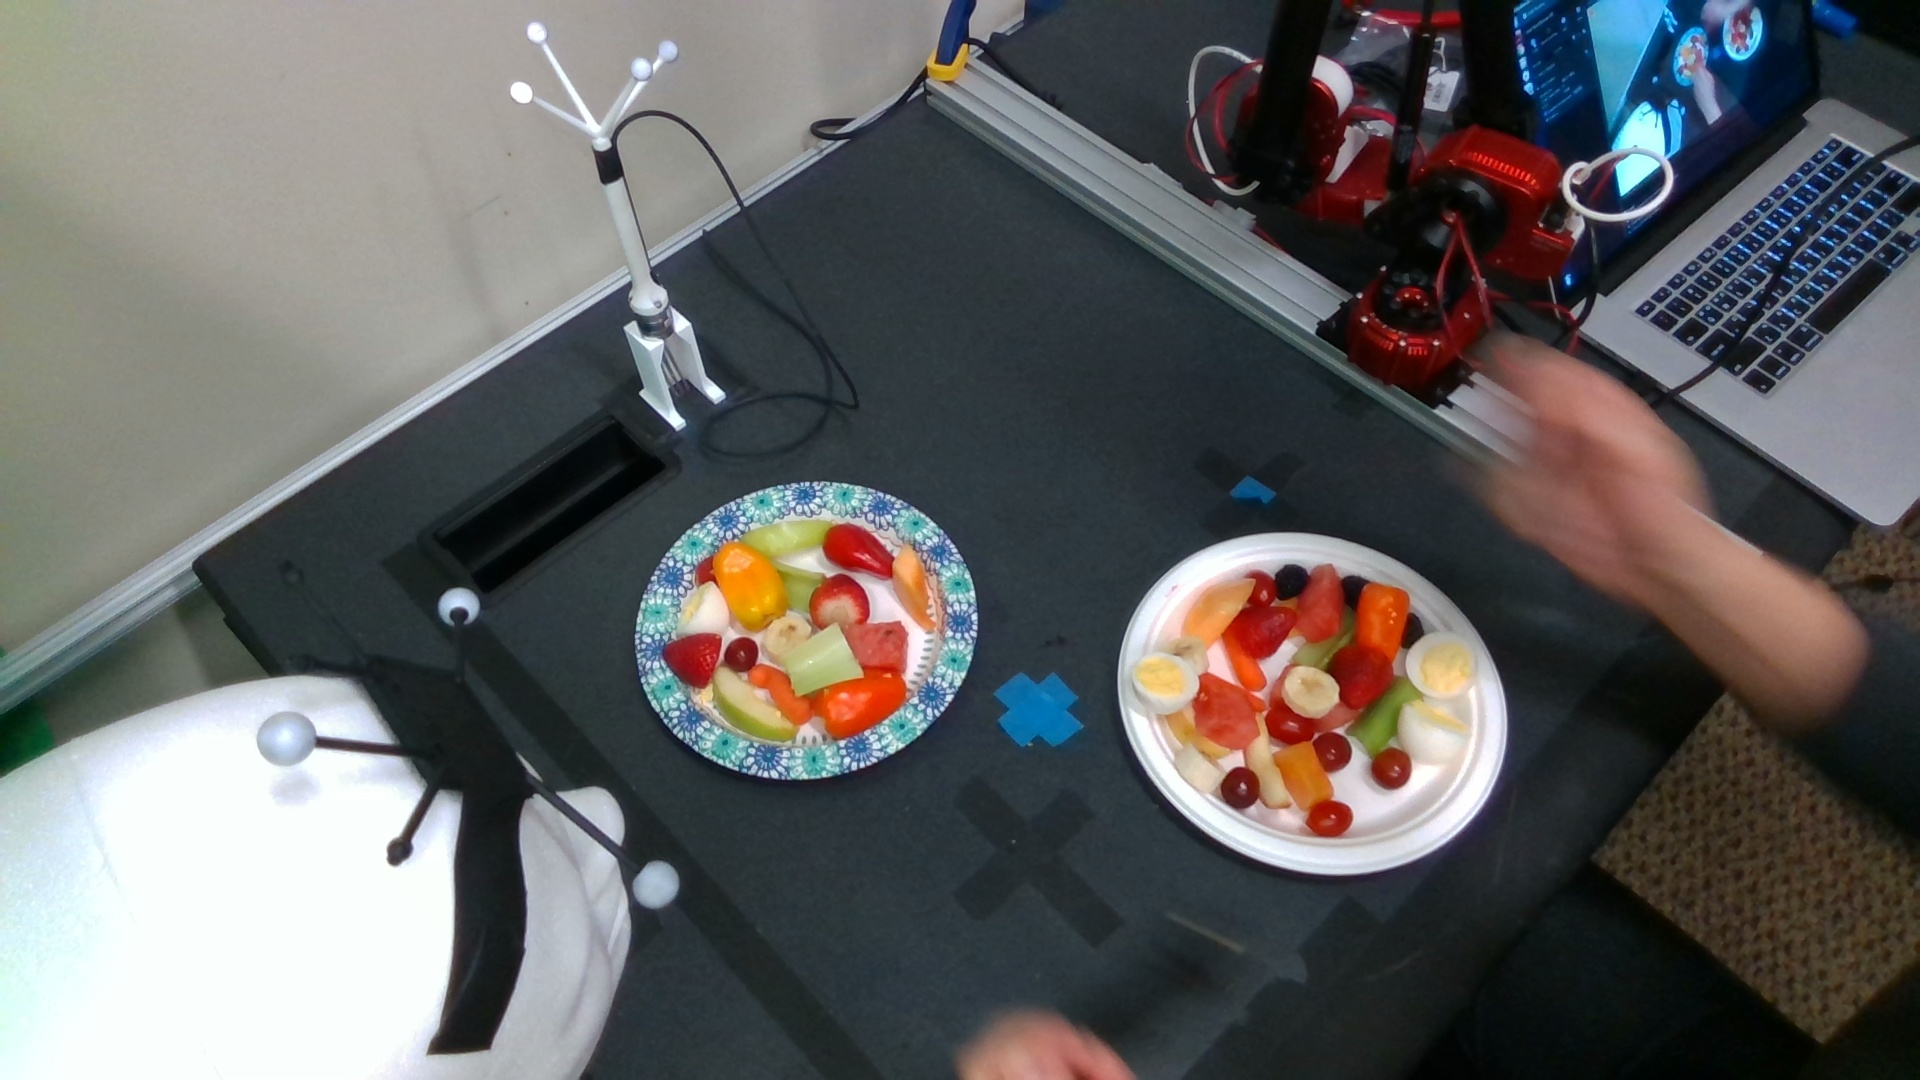apple: (712, 663, 799, 740), (1245, 713, 1291, 808), (741, 520, 833, 559)
banana: (1282, 667, 1338, 717), (1174, 744, 1226, 793), (762, 615, 812, 665)
bell_pepper: (713, 545, 789, 632), (812, 669, 905, 738), (822, 522, 894, 578), (1357, 582, 1408, 658)
blackberry: (1274, 563, 1308, 601)
cantalope: (1185, 578, 1257, 647), (1274, 742, 1338, 810), (893, 545, 935, 630)
carrot: (749, 663, 812, 723), (1228, 644, 1265, 690)
celery: (1345, 676, 1422, 758), (785, 622, 864, 696)
cherry_tomato: (1305, 800, 1354, 836), (1266, 708, 1313, 742), (1246, 572, 1275, 605)
egg: (1396, 699, 1469, 767), (1408, 633, 1478, 698), (1131, 653, 1197, 713), (676, 582, 732, 636)
grape: (1221, 766, 1259, 808), (1374, 749, 1412, 790), (1313, 732, 1350, 770), (725, 637, 758, 673)
melon: (1193, 673, 1261, 749), (1296, 564, 1344, 644), (844, 621, 909, 671)
plate: (1118, 531, 1505, 874), (636, 483, 976, 779)
strawberry: (810, 574, 870, 636), (1332, 646, 1394, 705), (662, 633, 721, 687), (1240, 605, 1296, 659)
